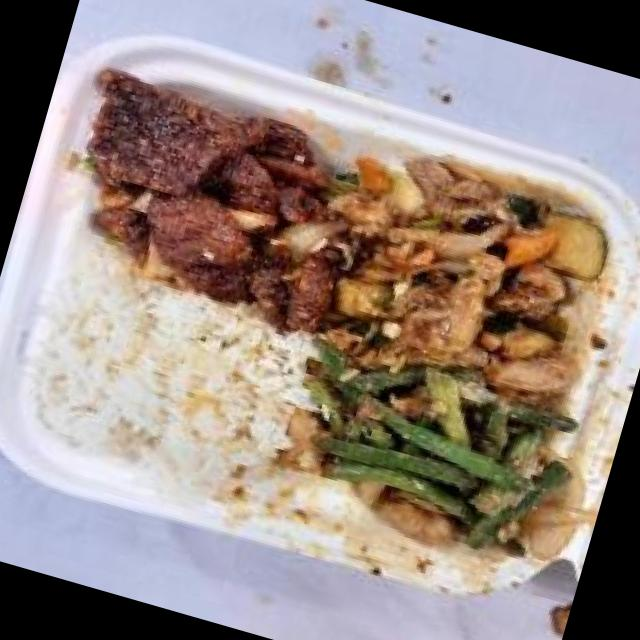Beijing Beef: (54, 59, 366, 325)
Kung Pao Chicken: (295, 126, 621, 404)
String Bean Chicken Breast: (285, 324, 609, 584)
White Steamed Rice: (10, 252, 328, 522)
